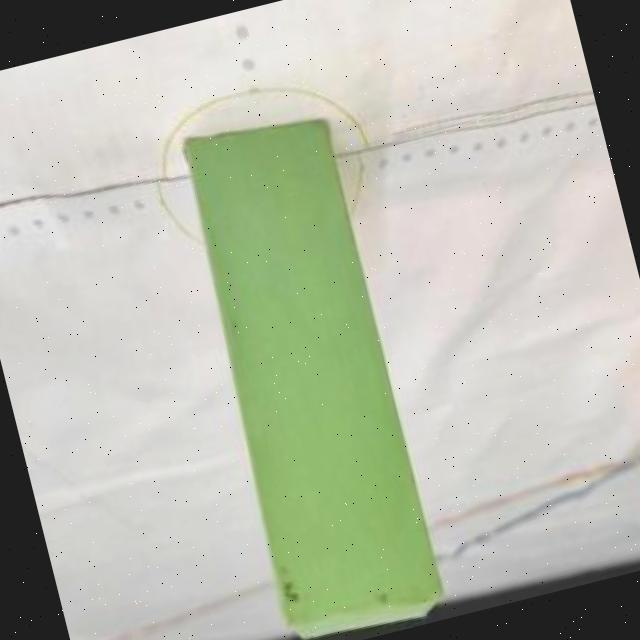greenbox: (159, 103, 448, 640)
